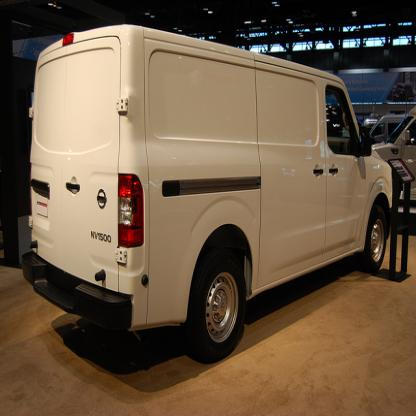Vehicle: (13, 18, 412, 374)
